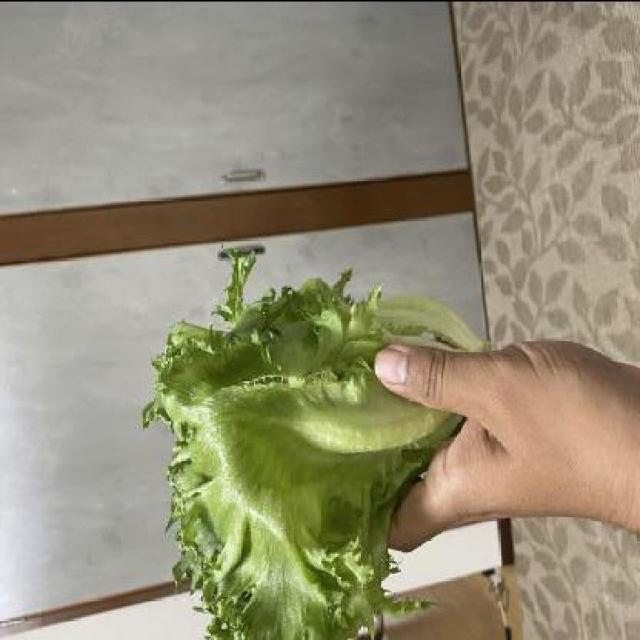Lettuce: (150, 275, 484, 640)
